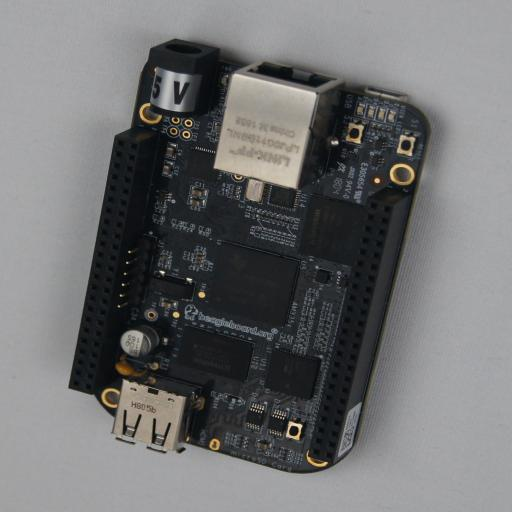Beaglebone Black: (68, 39, 432, 473)
